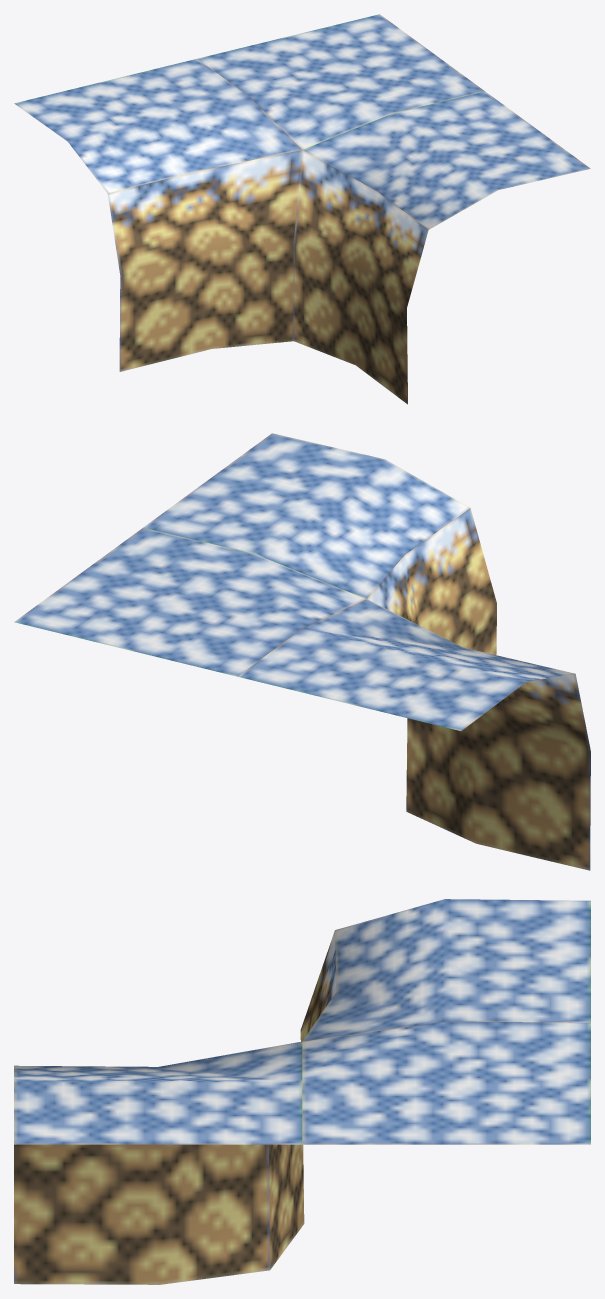
File: snowDTile_innerCorner_upperRight.fbx
3 views of the same model, one above another, from view 1: azimuth 30°, elevation 25°; view 2: azimuth 150°, elevation 25°; view 3: azimuth 270°, elevation 25° (orthographic). The views are drawn at different scales.
Parts seen in each view (by area): view 1: snowDTile_innerCorner_upperRight; view 2: snowDTile_innerCorner_upperRight; view 3: snowDTile_innerCorner_upperRight.
Boxes of the visible parts, x1,y1,x2,y2 form: snowDTile_innerCorner_upperRight: (14, 14, 590, 404); snowDTile_innerCorner_upperRight: (14, 433, 590, 870); snowDTile_innerCorner_upperRight: (14, 899, 590, 1284).
Bounding box in the file's own units: 2 × 1.01 × 2.
